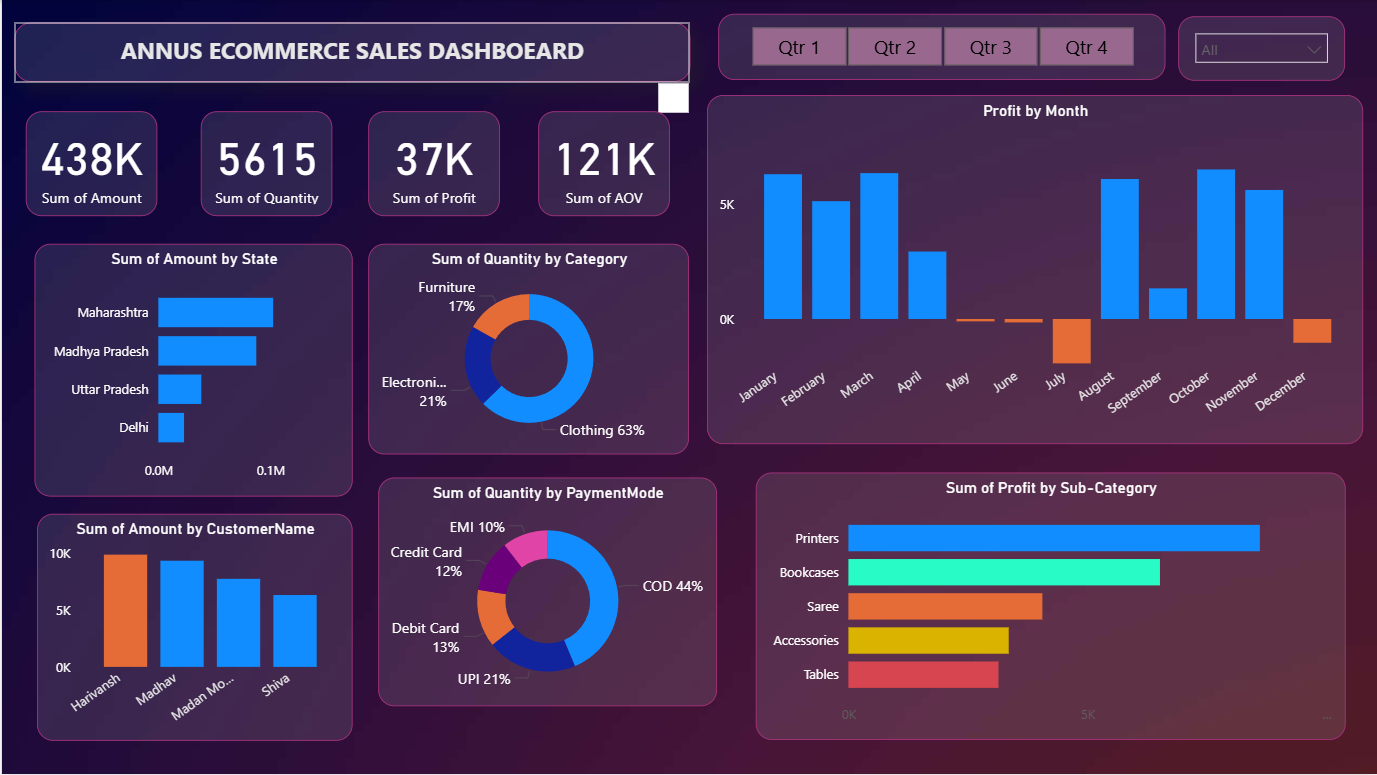

The dashboard page shown, as its layout file describes it:
{"tool":"powerbi","page":{"name":"Page 1","canvas":[1280,720],"ordinal":0},"visuals":[{"type":"textbox","title":"dhdhe","box":[11.2,21.2,628.8,55],"z":0},{"type":"columnChart","title":"Profit by Month","fields":{"Category":["Orders.Order Date.Variation.Date Hierarchy.Month"],"Y":["Details.Profit"]},"box":[656.2,88.8,610,325],"z":1000},{"type":"barChart","fields":{"Category":["Details.Sub-Category"],"Y":["Details.Profit"]},"box":[701.2,440,548.8,248.8],"z":2000},{"type":"donutChart","fields":{"Category":["Details.Category"],"Y":["Details.Quantity"]},"box":[341.2,226.2,298.8,196.2],"z":3000},{"type":"donutChart","fields":{"Category":["Details.PaymentMode","Details.Category"],"Y":["Details.Quantity"]},"box":[350,443.8,315,212.5],"z":4000},{"type":"card","fields":{"Values":["Details.Profit"]},"box":[341.2,103.8,122.5,97.5],"z":5000},{"type":"card","fields":{"Values":["Details.AOV"]},"box":[498.8,103.8,122.5,97.5],"z":6000},{"type":"card","fields":{"Values":["Details.Quantity"]},"box":[185,103.8,122.5,97.5],"z":7000},{"type":"card","fields":{"Values":["Details.Amount"]},"box":[22.5,103.8,122.5,97.5],"z":8000},{"type":"barChart","fields":{"Category":["Orders.State"],"Y":["Details.Amount"]},"box":[30,226.2,296.2,235],"z":9000},{"type":"columnChart","fields":{"Category":["Orders.CustomerName"],"Y":["Details.Amount"]},"box":[32.5,477.5,293.8,211.2],"z":10000},{"type":"slicer","fields":{"Values":["Orders.Order Date.Variation.Date Hierarchy.Quarter"]},"box":[666.5,12.5,416,61.2],"z":11000},{"type":"slicer","fields":{"Values":["Orders.State"]},"box":[1094.8,14.8,155,60],"z":12000}]}

Visuals, with their boxes in screenshot pixels (x1, y1, x2, y2), scaled from the page's 1280x720 canvas onto the 1377x775 screenshot:
"dhdhe" textbox: <box>12,23,688,82</box>
"Profit by Month" columnChart: <box>706,96,1362,445</box>
barChart - Details.Sub-Category x Details.Profit: <box>754,474,1345,741</box>
donutChart - Details.Category x Details.Quantity: <box>367,243,688,455</box>
donutChart - Details.PaymentMode x Details.Category: <box>377,478,715,706</box>
card - Details.Profit: <box>367,112,499,217</box>
card - Details.AOV: <box>537,112,668,217</box>
card - Details.Quantity: <box>199,112,331,217</box>
card - Details.Amount: <box>24,112,156,217</box>
barChart - Orders.State x Details.Amount: <box>32,243,351,496</box>
columnChart - Orders.CustomerName x Details.Amount: <box>35,514,351,741</box>
slicer - Orders.Order Date.Variation.Date Hierarchy.Quarter: <box>717,13,1165,79</box>
slicer - Orders.State: <box>1178,16,1345,81</box>
